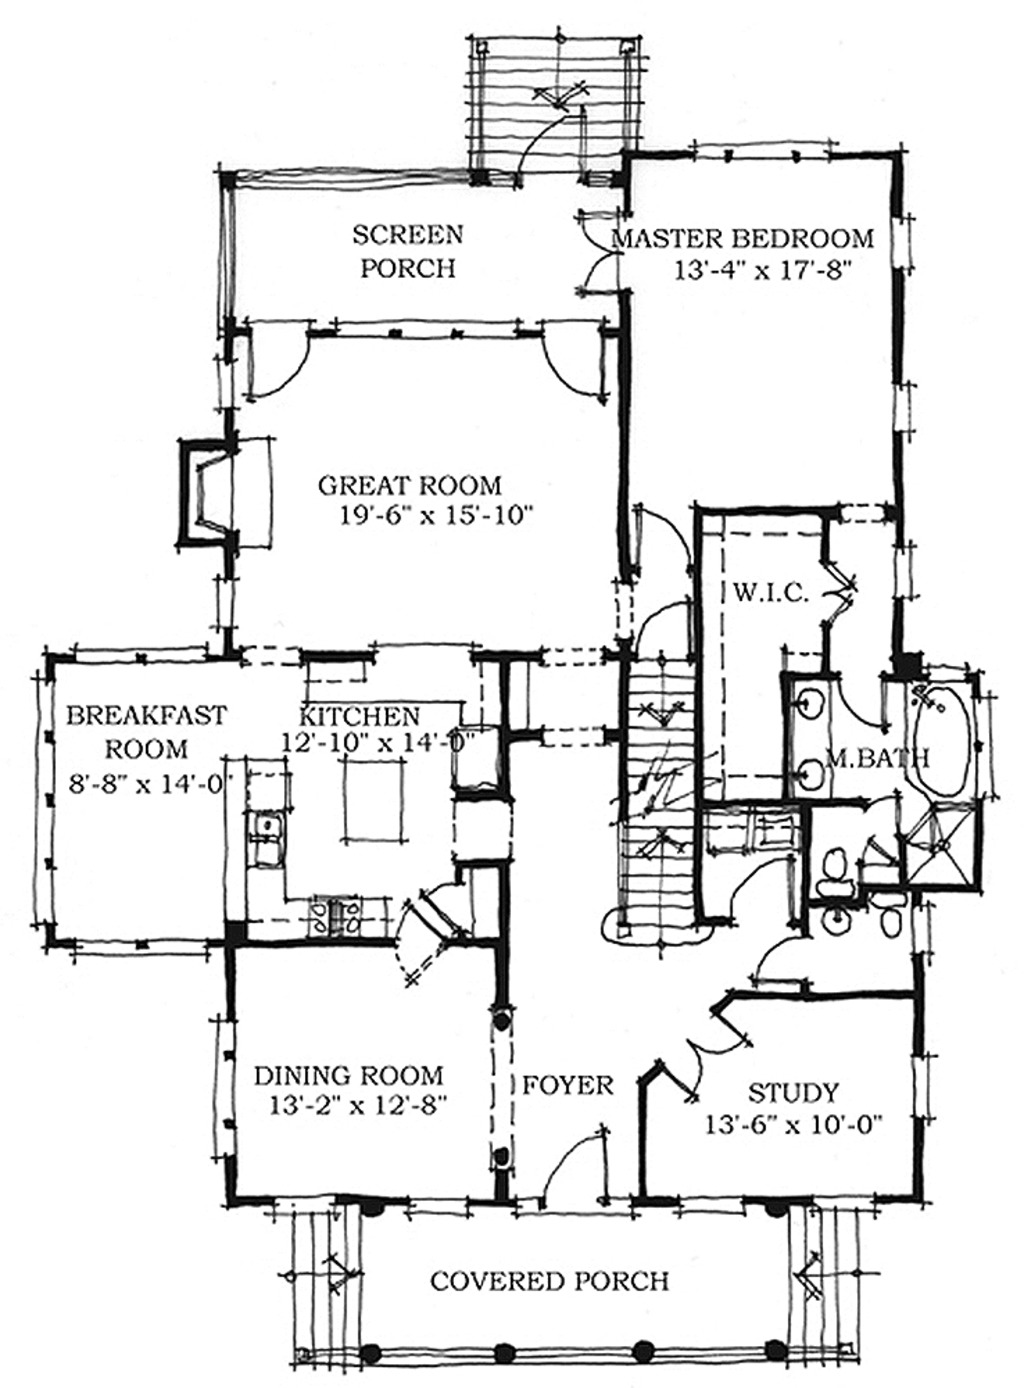door: (535, 313, 620, 405), (663, 1015, 747, 1089), (724, 856, 807, 930), (243, 322, 313, 402), (536, 1133, 615, 1197), (636, 503, 689, 580), (741, 933, 801, 983)
stairs: (469, 28, 635, 190)
